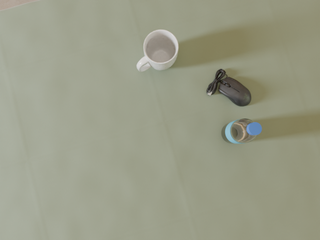bottle: (222, 119, 262, 143)
cup: (137, 30, 178, 72)
mouse: (207, 69, 251, 106)
